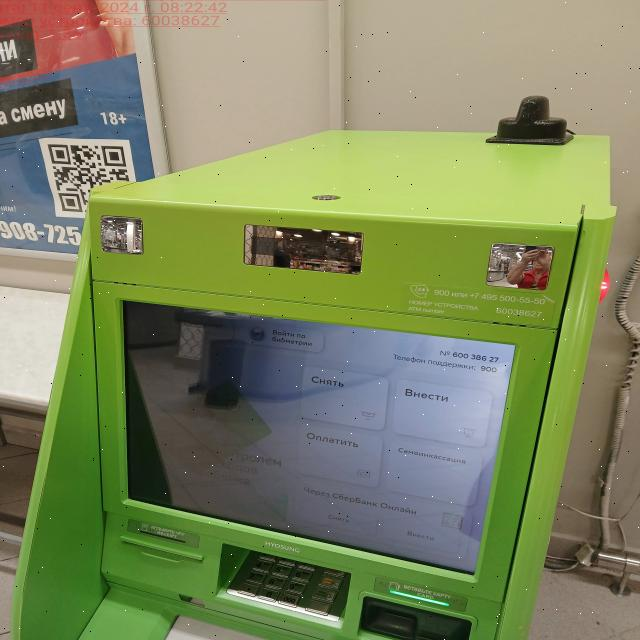bank: (13, 129, 614, 640)
